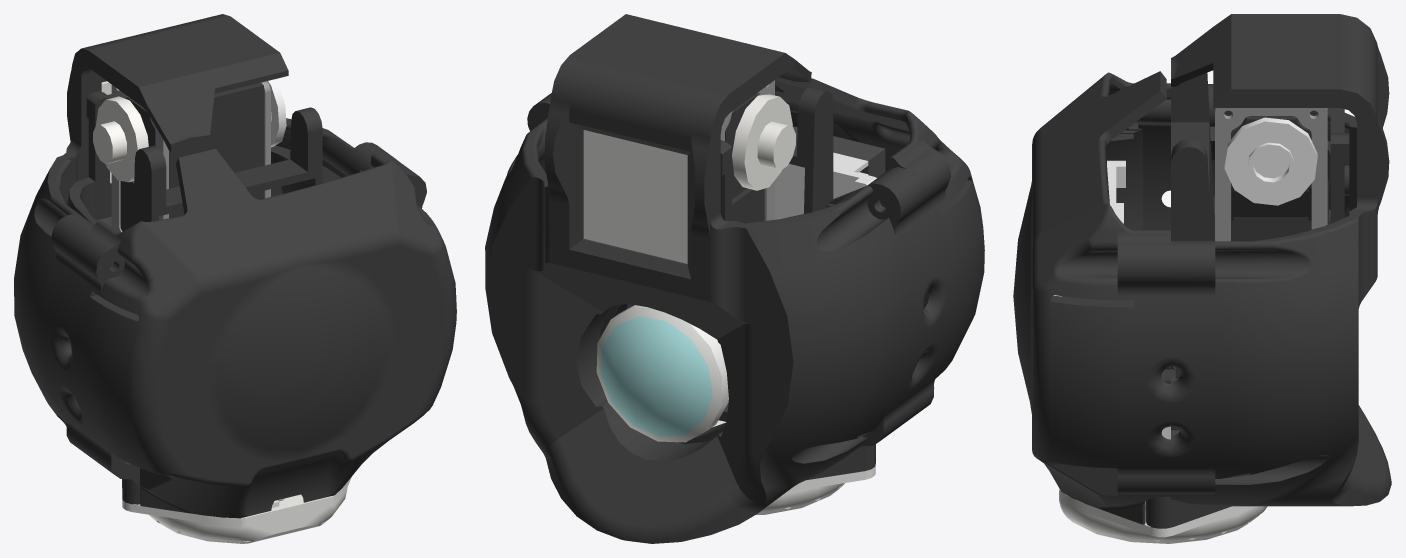
The model's file is head_1_mesh.obj.
The picture shows the model from 3 angles, left to right: view 1: azimuth 30°, elevation 25°; view 2: azimuth 150°, elevation 25°; view 3: azimuth 270°, elevation 25°; orthographic projection. The views are drawn at different scales.
Visible parts, largest first — view 1: Body3, Body2, Body1, Body14, Body4, Body15, Body8, Body24, Body7; view 2: Body2, Body3, Body11, Body6, Body1, Body15, Body10, Body4, Body14, Body12, Body9, Body8; view 3: Body2, Body3, Body1, Body24, Body7, Body4, Body14, Body22, Body10.
Part boxes in pixels (box(x1,y1,x2,y2)): Body3: box(63, 149, 456, 518); Body2: box(14, 14, 396, 456); Body1: box(67, 91, 340, 504); Body14: box(120, 83, 263, 231); Body4: box(122, 477, 351, 543); Body15: box(93, 96, 148, 182); Body8: box(111, 85, 168, 232); Body24: box(267, 79, 286, 147); Body7: box(260, 81, 270, 198); Body2: box(485, 14, 932, 543); Body3: box(775, 77, 984, 423); Body11: box(596, 305, 728, 442); Body6: box(583, 130, 687, 263); Body1: box(626, 87, 885, 480); Body15: box(732, 94, 795, 190); Body10: box(775, 152, 876, 219); Body4: box(712, 420, 875, 514); Body14: box(725, 94, 764, 223); Body12: box(792, 126, 885, 177); Body9: box(793, 126, 885, 177); Body8: box(720, 80, 774, 220); Body2: box(1171, 14, 1391, 506); Body3: box(1013, 71, 1170, 524); Body1: box(1135, 73, 1349, 528); Body24: box(1224, 117, 1317, 205); Body7: box(1215, 108, 1327, 241); Body4: box(1059, 426, 1267, 543); Body14: box(1224, 110, 1318, 241); Body22: box(1231, 187, 1311, 220); Body10: box(1053, 160, 1125, 296).
Bounding box in the file's own units: 0.094 × 0.1079 × 0.0806.
